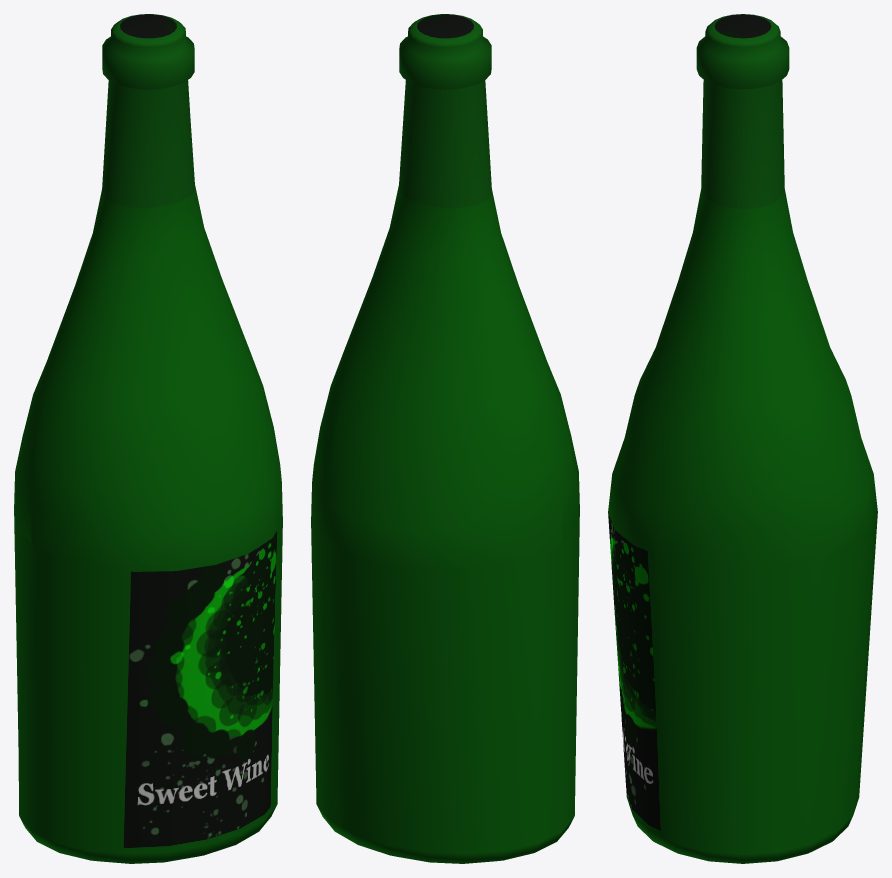
File: Bottle_Sweetwine.fbx
3 views of the same model, side by side, from view 1: azimuth 30°, elevation 25°; view 2: azimuth 150°, elevation 25°; view 3: azimuth 270°, elevation 25° (orthographic).
Parts seen in each view (by area): view 1: pCylinder18; view 2: pCylinder18; view 3: pCylinder18.
Boxes of the visible parts, left/top/right/bottom form: pCylinder18: left=14, top=14, right=282, bottom=863; pCylinder18: left=311, top=14, right=579, bottom=863; pCylinder18: left=608, top=14, right=877, bottom=863.
Bounding box in the file's own units: 1.96 × 6.38 × 1.97.
